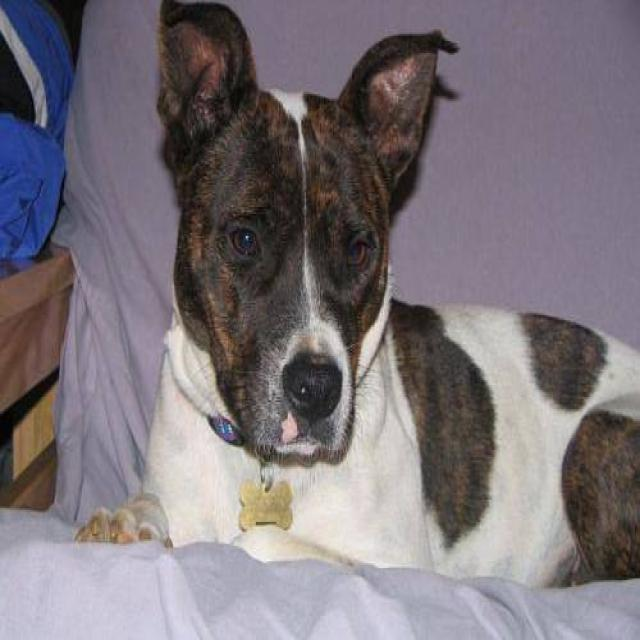dog: (71, 0, 638, 589)
